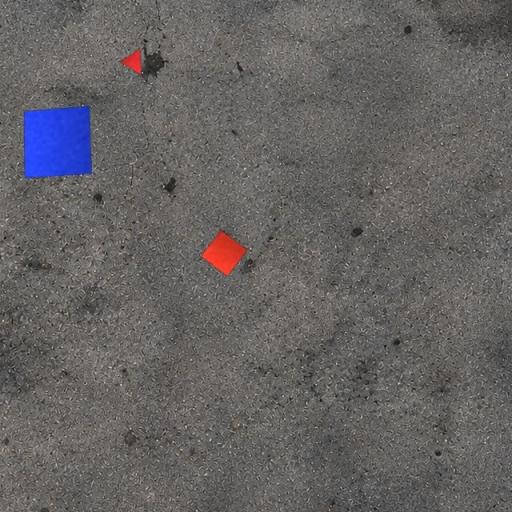BLUE_SQUARE: (23, 106, 92, 178)
RED_SQUARE: (200, 229, 248, 277)
